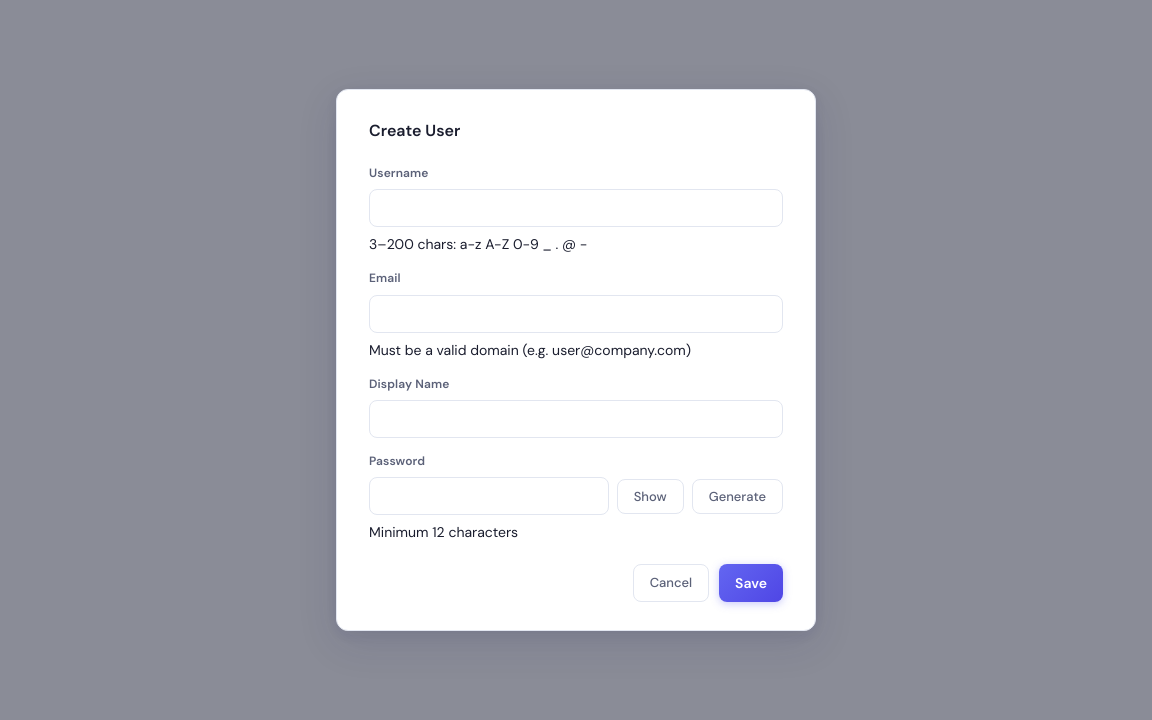
Scenario: UserFormModal › 422 shows server message, modal stays open
This screenshot has width=1152, height=720.
Type "newuser" into the field below "Username" at (576, 208), box [369,189,783,227]
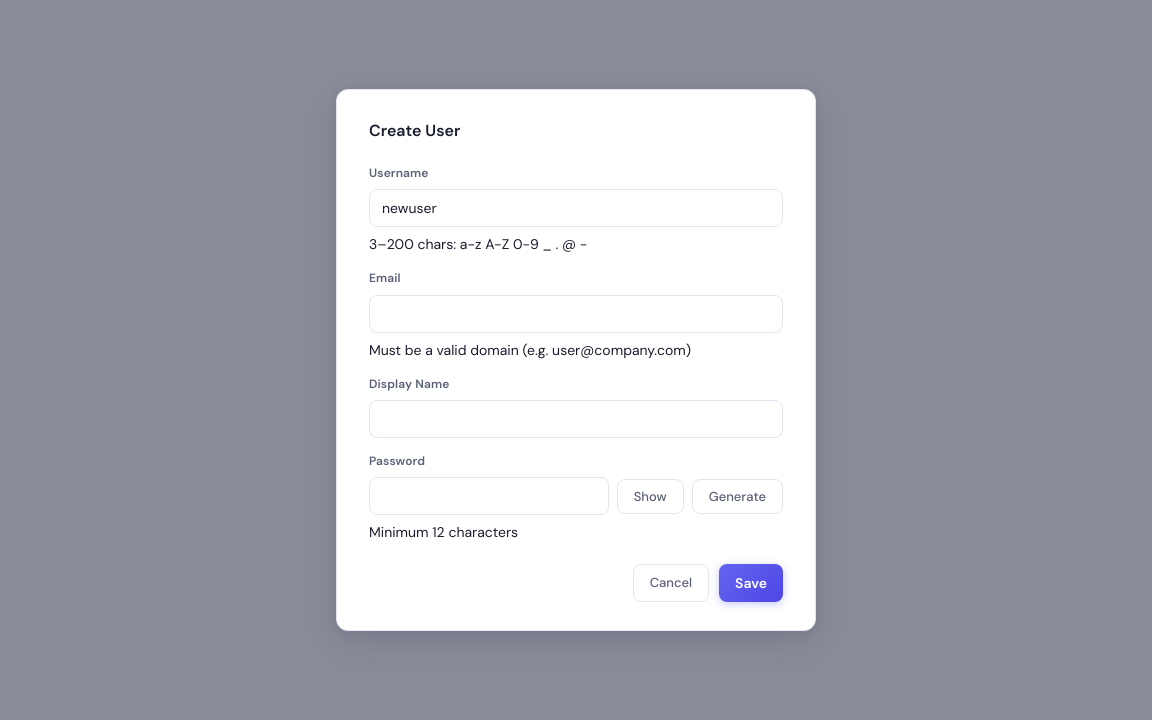
Type "Str0ngPassword!" into the password field at (489, 496), box [369,477,609,515]
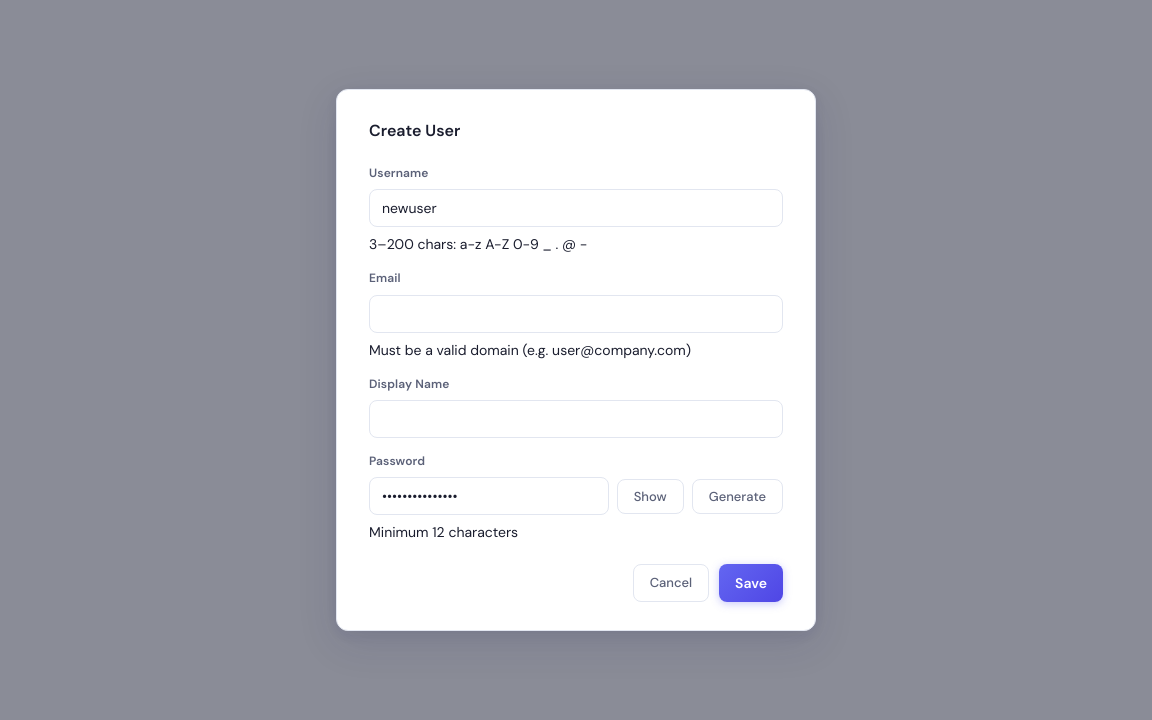
Submit the form, box [369,164,783,602]
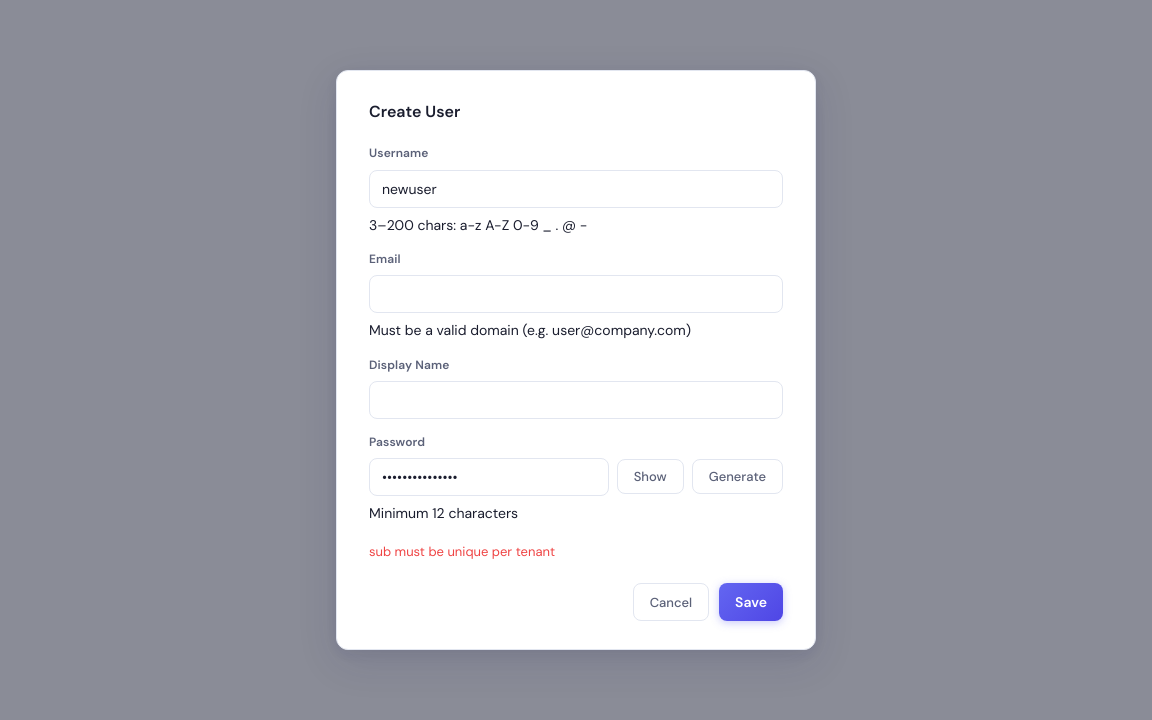
Check: the text with class "form-error" reads "sub must be unique per tenant", box [369,543,555,560]
